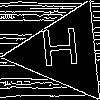H: (38, 27, 83, 76)
